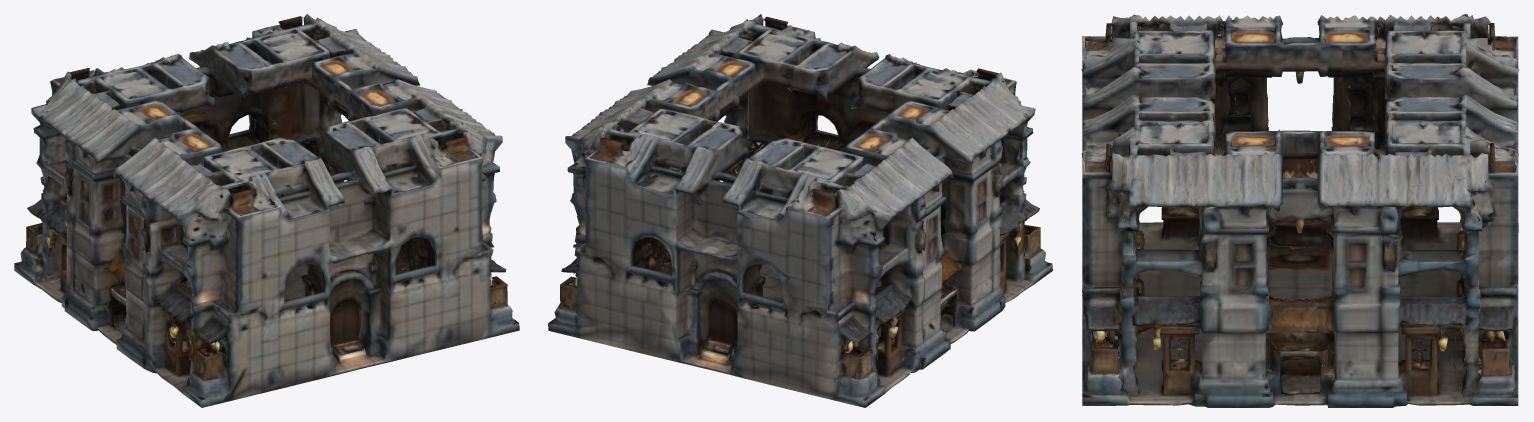
Rendered from Dwarven Market #5_final.glb.
The picture shows the model from 3 angles, left to right: view 1: azimuth 30°, elevation 25°; view 2: azimuth 150°, elevation 25°; view 3: azimuth 270°, elevation 25°; orthographic projection. The views are drawn at different scales.
Bounding box in the file's own units: 1.91 × 1.13 × 1.92.
1 material, 1 textured.
